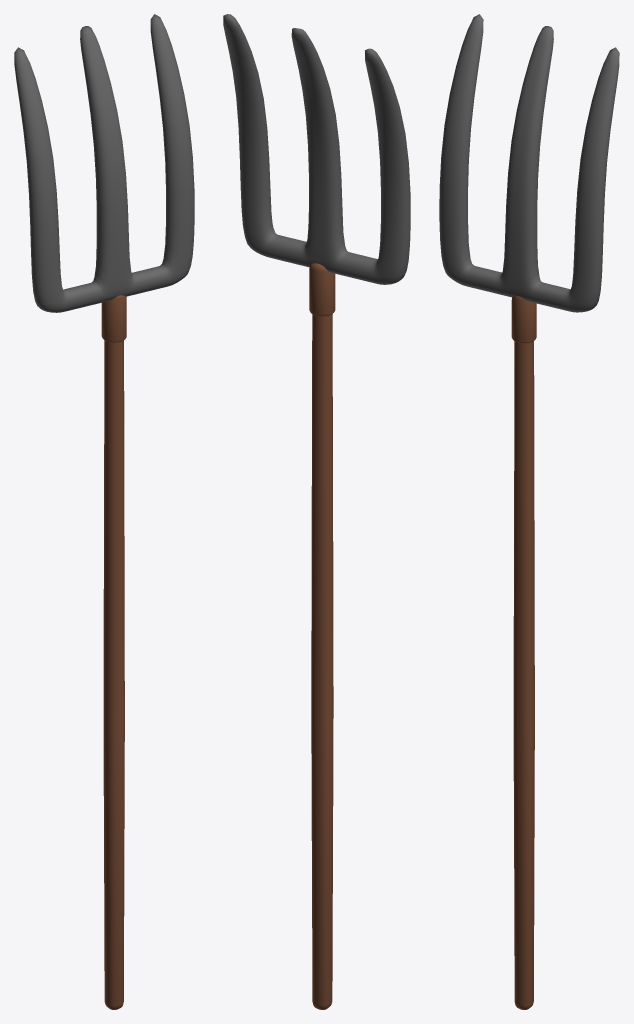
Rendered from Tool1.fbx.
The picture shows the model from 3 angles, left to right: view 1: azimuth 30°, elevation 25°; view 2: azimuth 150°, elevation 25°; view 3: azimuth 330°, elevation 25°; orthographic projection. The views are drawn at different scales.
Parts seen in each view (by area): view 1: Plane.003; view 2: Plane.003; view 3: Plane.003.
Boxes of the visible parts, box(x1,y1,x2,y2) form: Plane.003: box(14, 14, 194, 1009); Plane.003: box(223, 14, 410, 1009); Plane.003: box(439, 14, 619, 1009).
Bounding box in the file's own units: 0.3682 × 0.1351 × 2.09.
